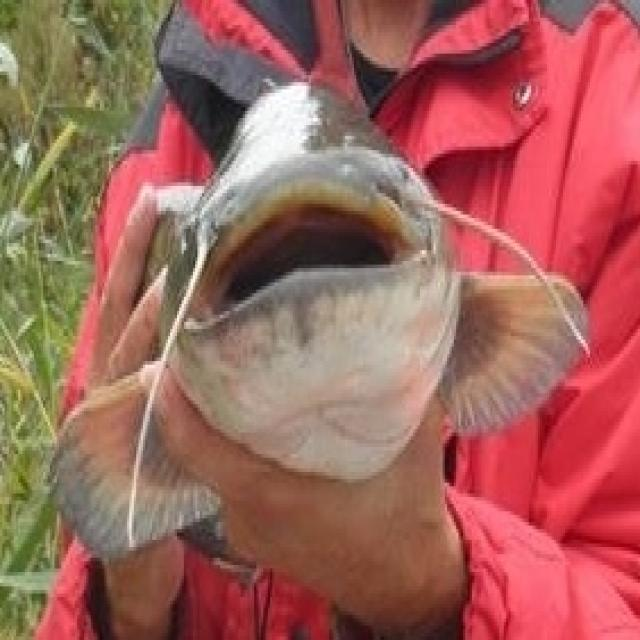Catfish: (40, 61, 597, 593)
